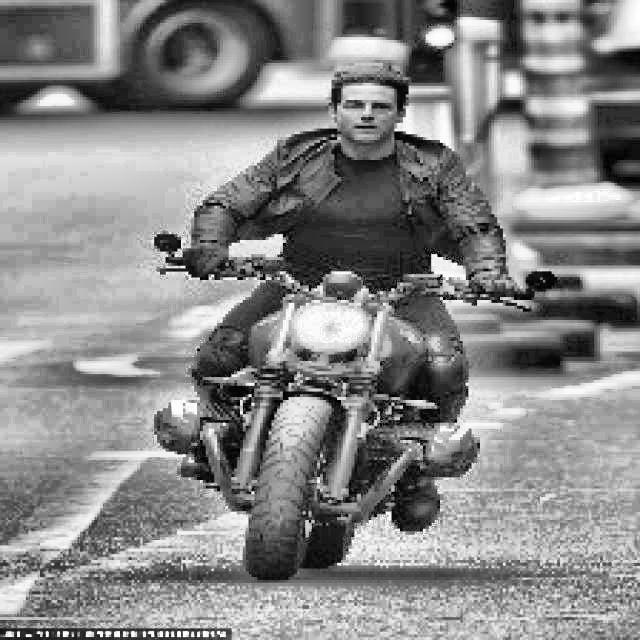motorcycle: (132, 193, 562, 588)
